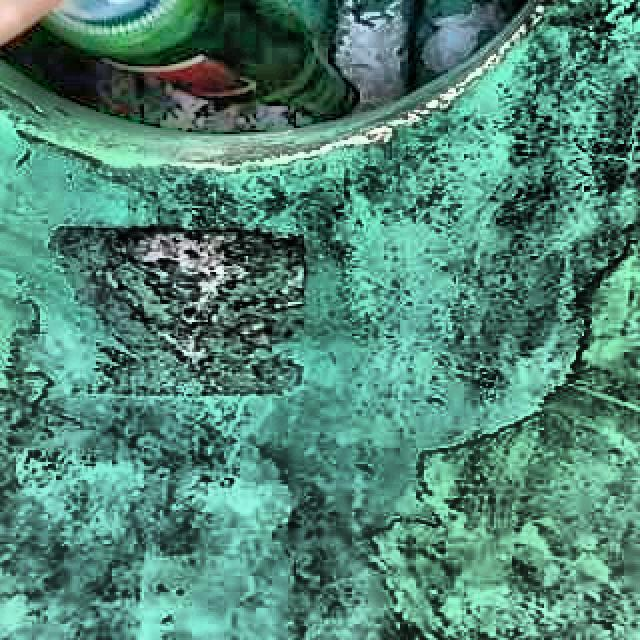glass: (43, 0, 357, 122)
